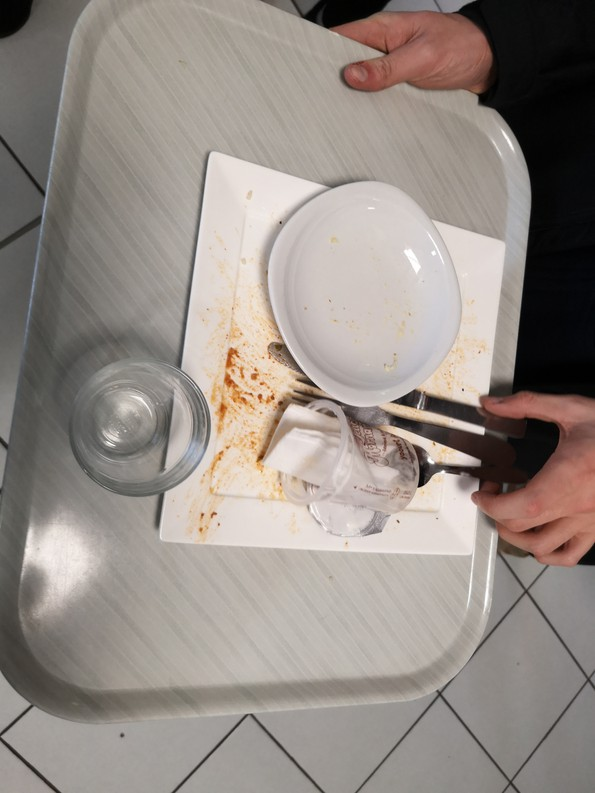cup: (58, 357, 215, 498)
cutlery: (267, 334, 563, 502)
trash: (272, 406, 420, 541)
